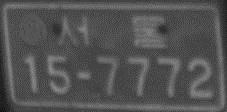-: (75, 65, 94, 86)
1: (19, 52, 44, 94)
2: (186, 56, 214, 100)
5: (46, 53, 72, 95)
7: (155, 55, 182, 100), (127, 55, 151, 97), (96, 55, 119, 97)
영: (16, 12, 48, 48)
타: (56, 15, 169, 49)
